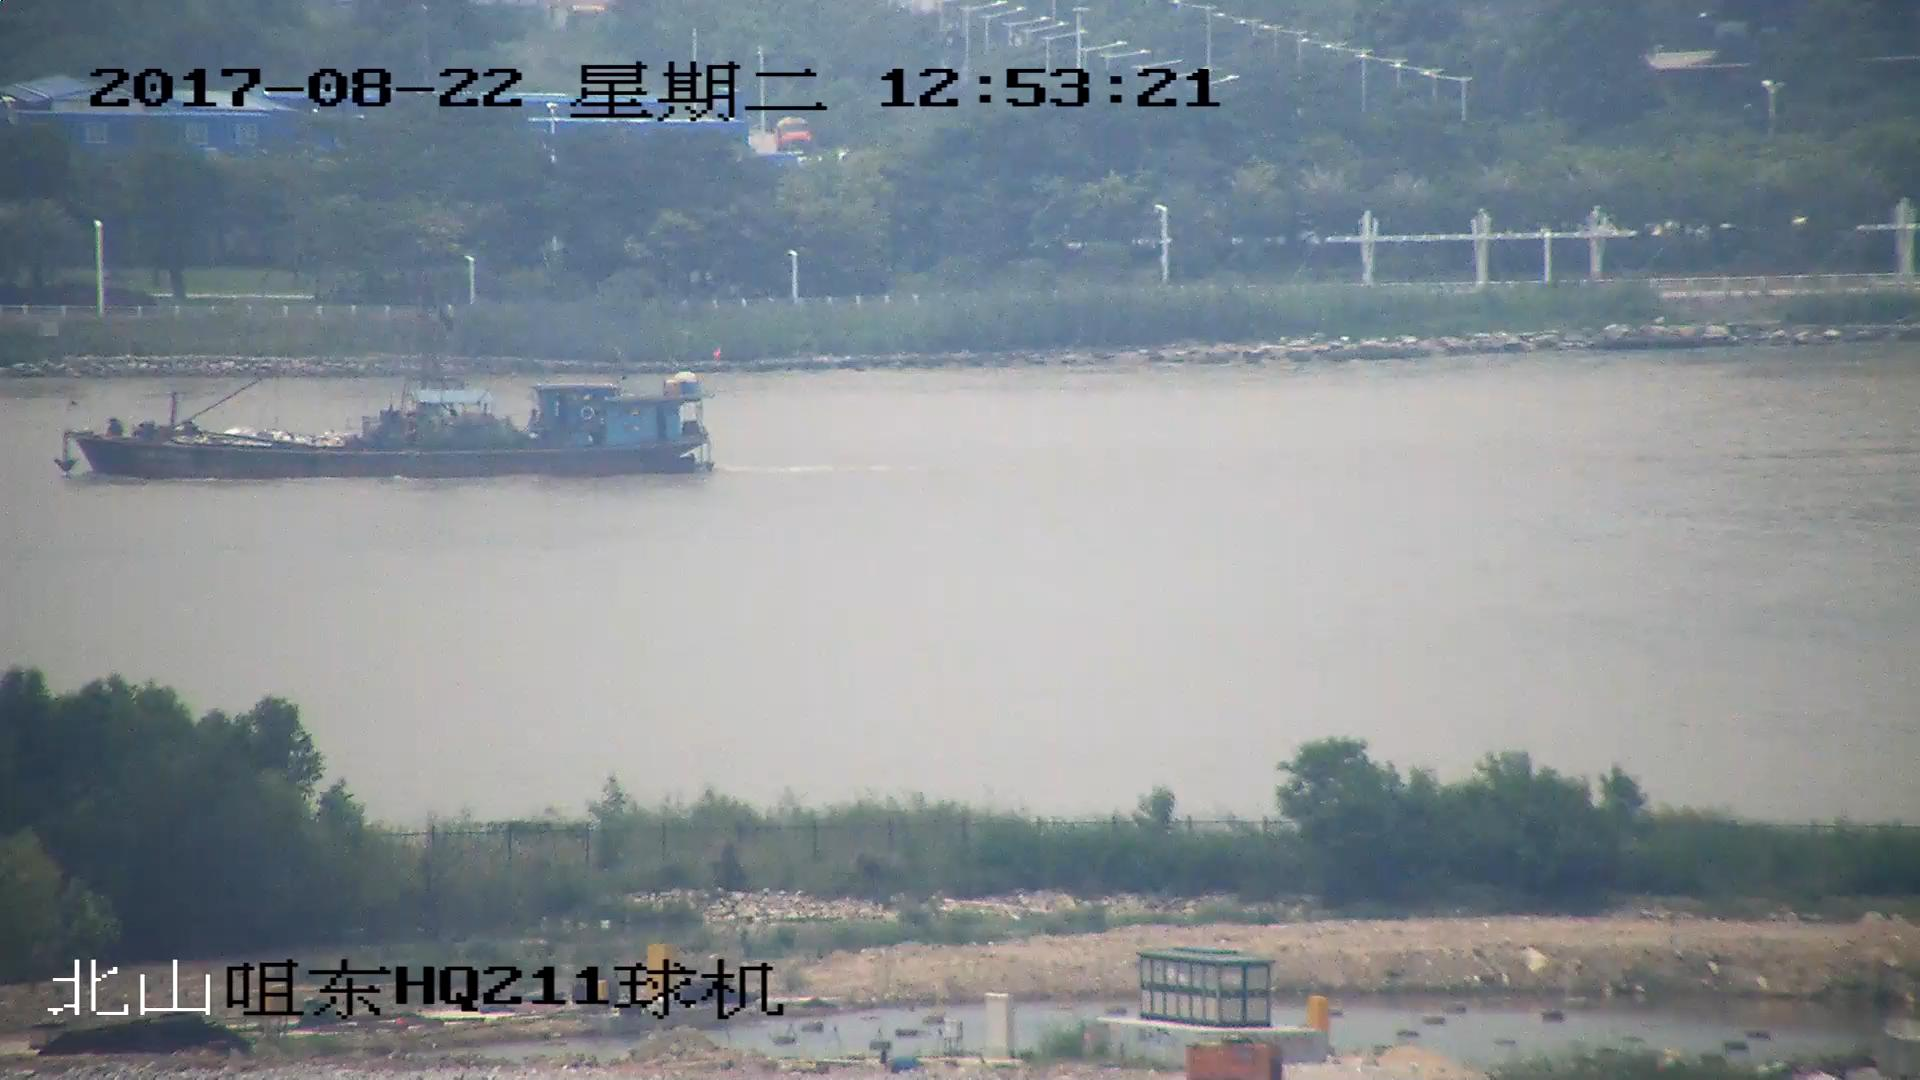fishing boat: (49, 310, 713, 479)
